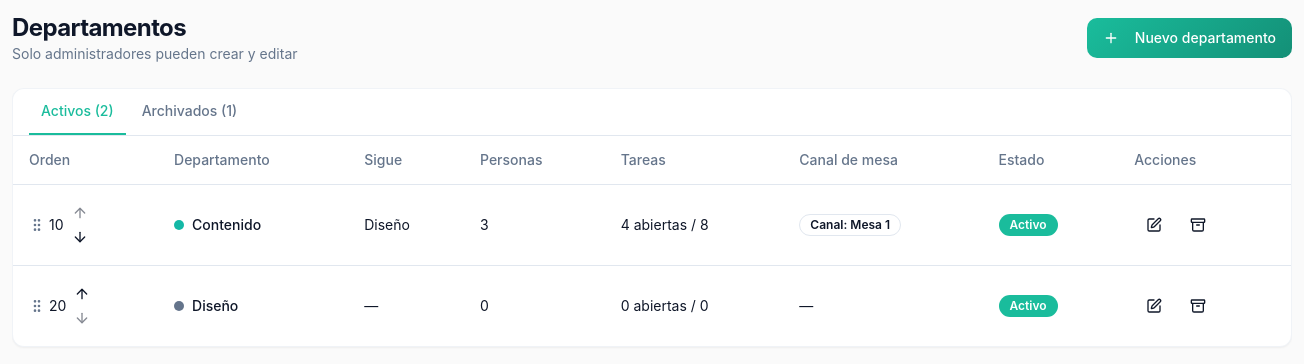
Test case: Departamentos · S8 › separa activos y archivados mediante activo
Check: the text "Contenido" is shown, box [174, 214, 261, 234]
Check: the text "Fotografía" is not shown
What coordinates should you click on to do the following:
click the tab "Archivados (1)"
I would click on:
 (189, 112)
Its box is [130, 89, 249, 135].
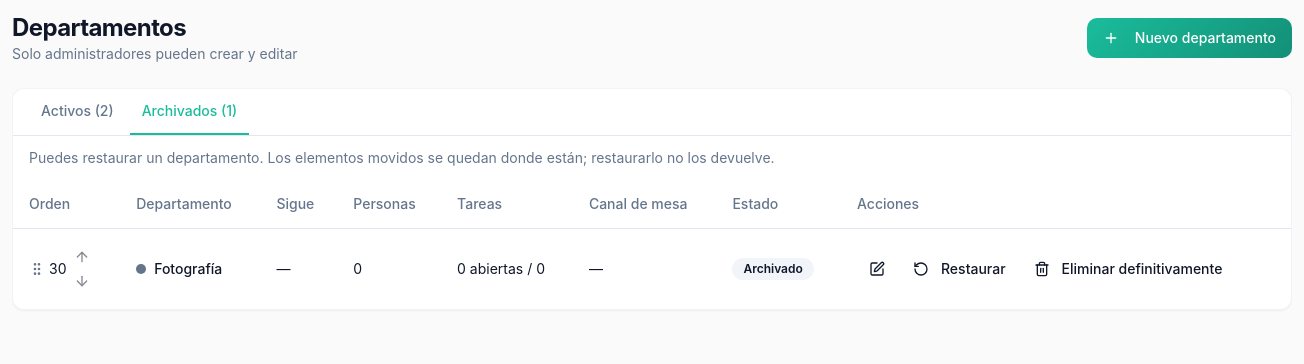
Check: the text "Fotografía" is shown, box [136, 258, 222, 278]
Check: the text "Contenido" is gone
Check: the text "Archivado" is shown, box [732, 258, 814, 280]
